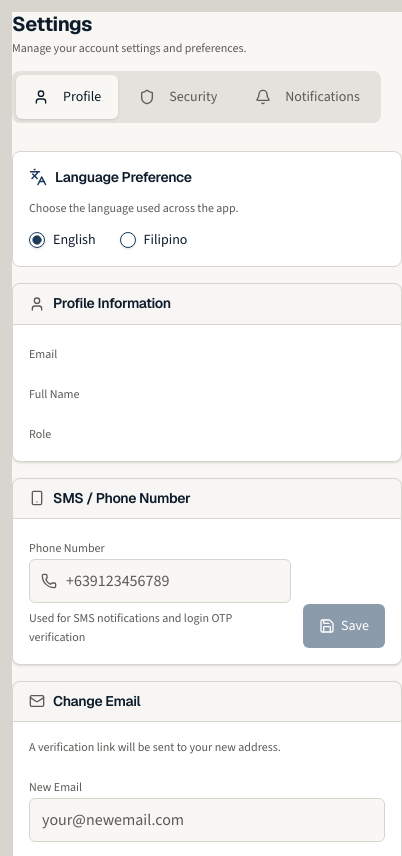
Test case: SettingsPage › hides the SMS preference column when the server reports SMS unconfigured
Click the tab "Notifications": point(308, 96) [238,74,377,118]
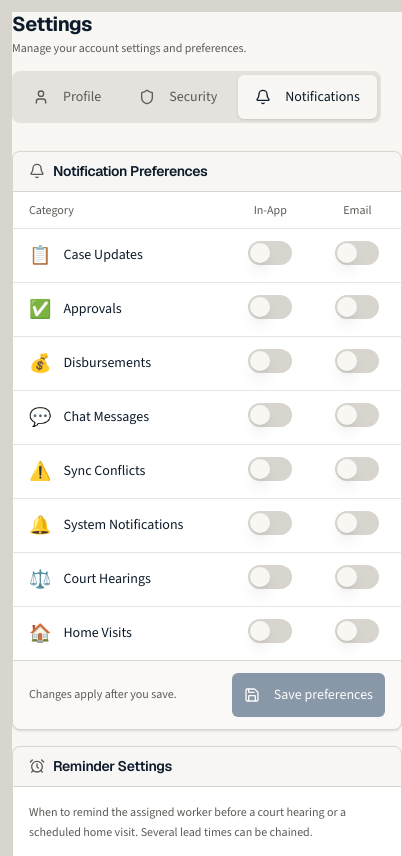
Expected: the heading "Notification Preferences" is shown, [53,162,207,181]
Expected: the heading "SMS" is gone
Expected: the column heading "In-App" is shown, [227,192,314,228]
